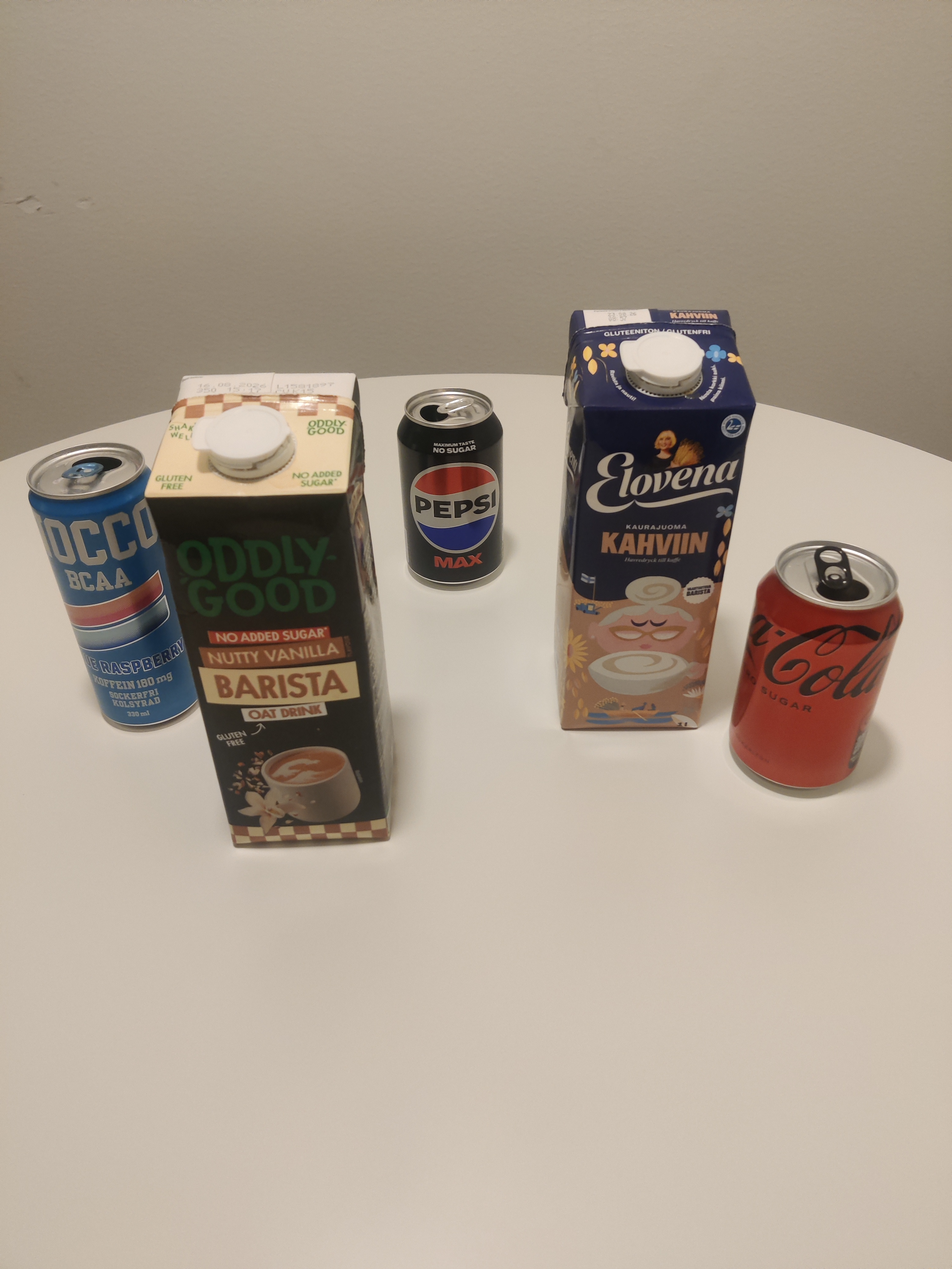Dryckeskartong: (157, 371, 406, 849), (551, 306, 753, 734)
Pantburk: (7, 420, 193, 730), (727, 537, 905, 790), (369, 387, 508, 625)
